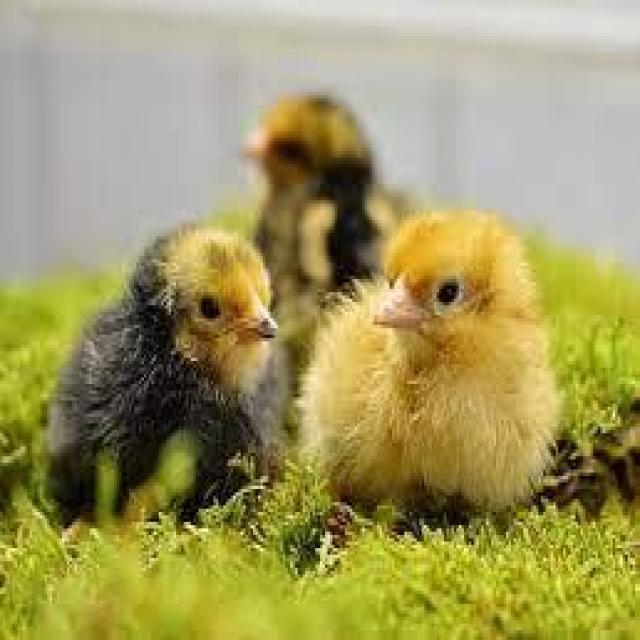poussin: (288, 204, 552, 514), (56, 222, 274, 508), (242, 95, 386, 273)
